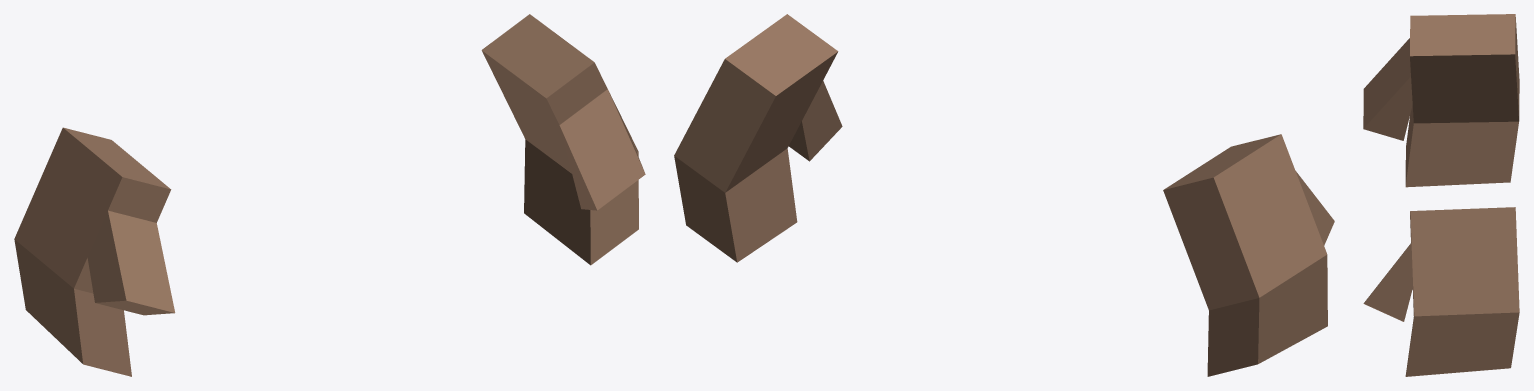
File: Hands.fbx
3 views of the same model, side by side, from view 1: azimuth 30°, elevation 25°; view 2: azimuth 150°, elevation 25°; view 3: azimuth 270°, elevation 25° (orthographic). The views are drawn at different scales.
Visible parts, largest first — view 1: Hands; view 2: Hands; view 3: Hands.
Part boxes in pixels (<box>): Hands: <box>14,14,645,376</box>; Hands: <box>674,14,1334,376</box>; Hands: <box>1363,14,1519,376</box>.
Size of the model in its own units: 3.23 by 1.11 by 0.9167.
